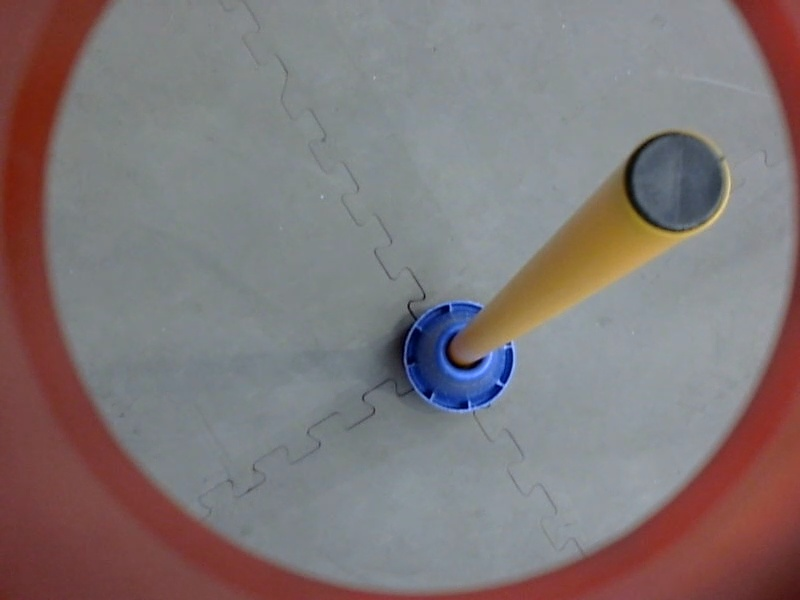tip: (621, 121, 734, 242)
